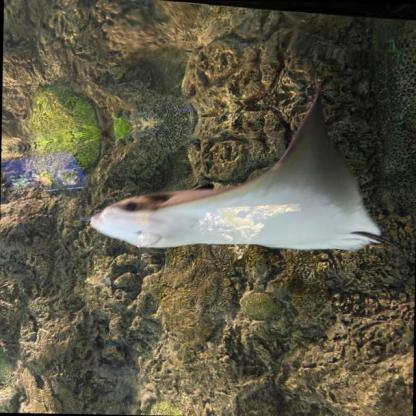stingray: (88, 68, 382, 251)
